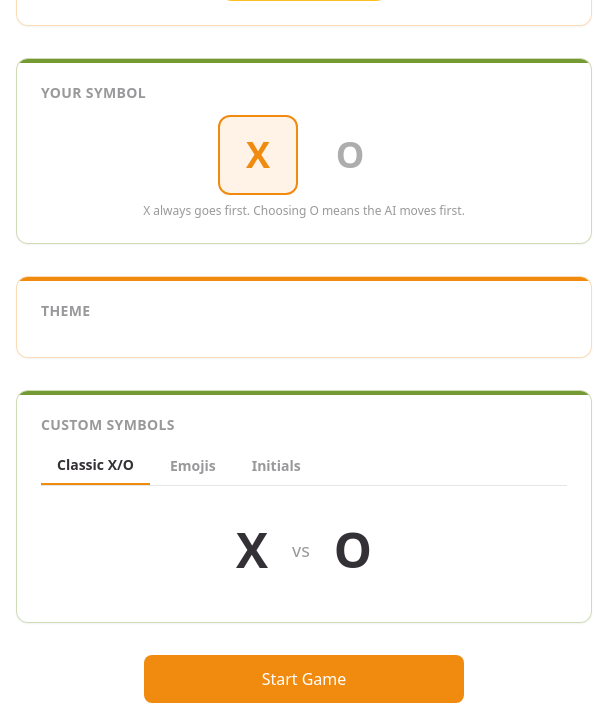
Test: AIGame — setup phase › shows 'Creating game...' while request is in flight
(page scrolled)
Click the button "Start Game" at (304, 679), box [144, 655, 464, 703]
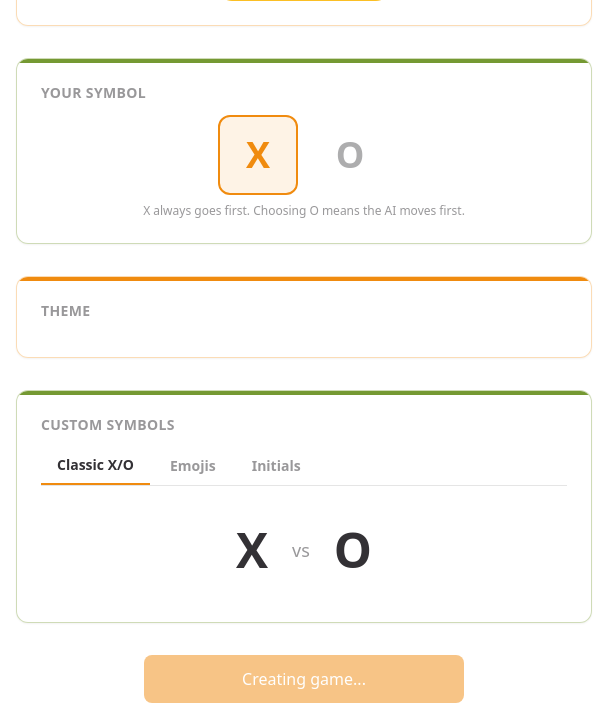
Expected: the button "Creating game..." is shown, [144, 655, 464, 703]
